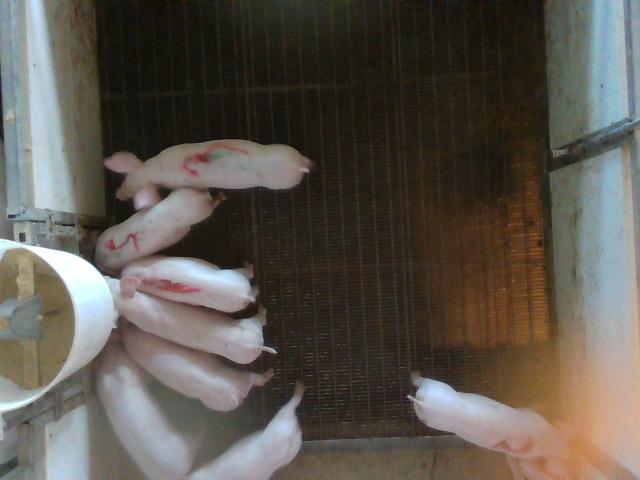pig-1: (121, 256, 258, 312)
pig-2: (409, 372, 581, 472)
pig-3: (104, 139, 312, 209)
pig-5: (95, 189, 224, 272)
